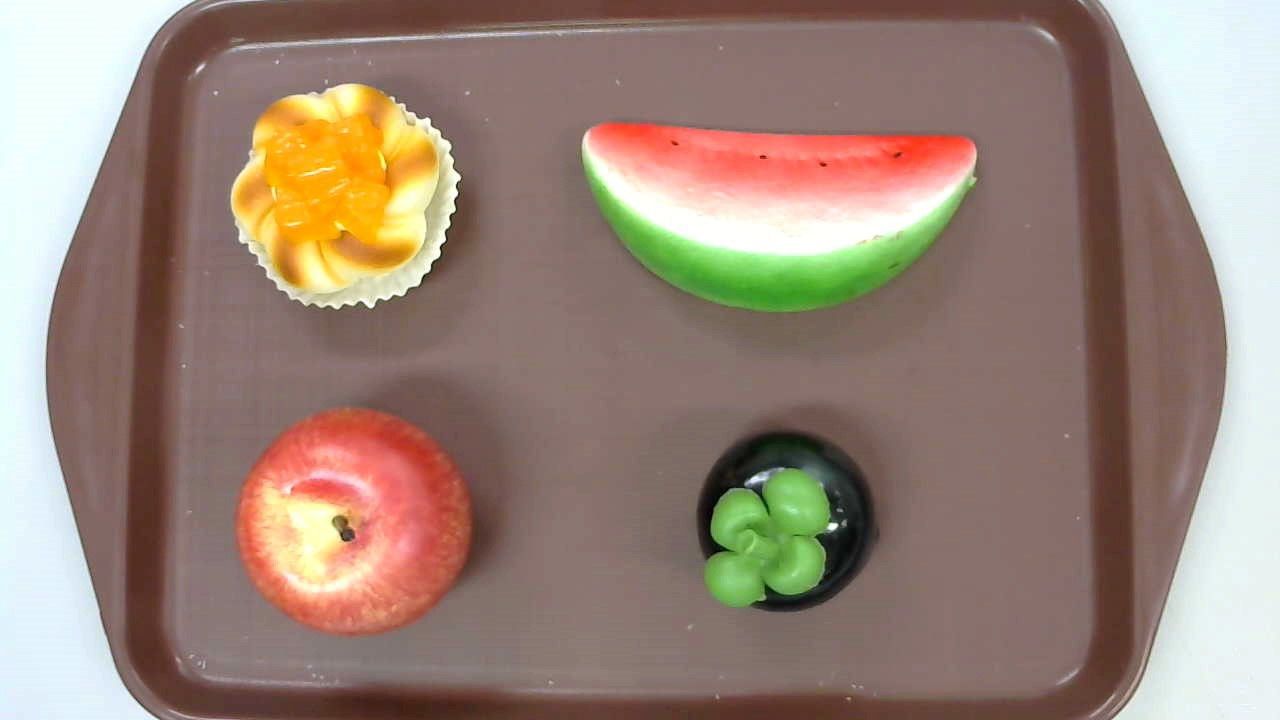mango tart: (230, 82, 462, 312)
mangosteen: (693, 428, 882, 614)
red apple: (233, 407, 472, 639)
water melon: (581, 122, 979, 316)
